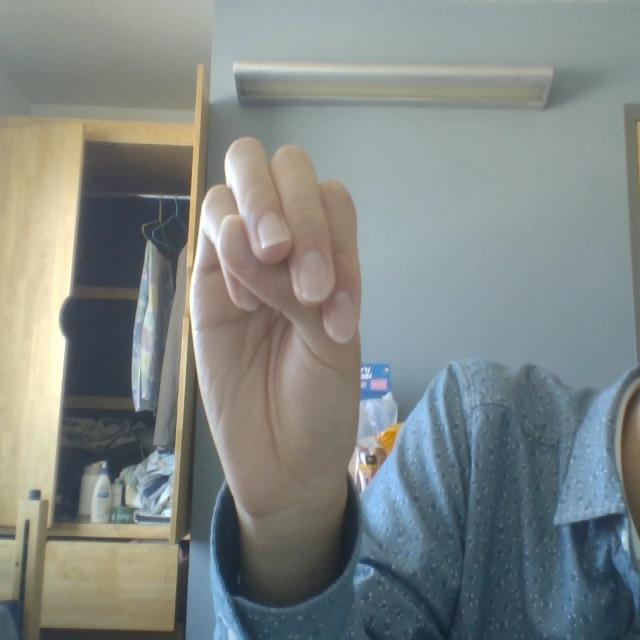M: (147, 110, 441, 562)
